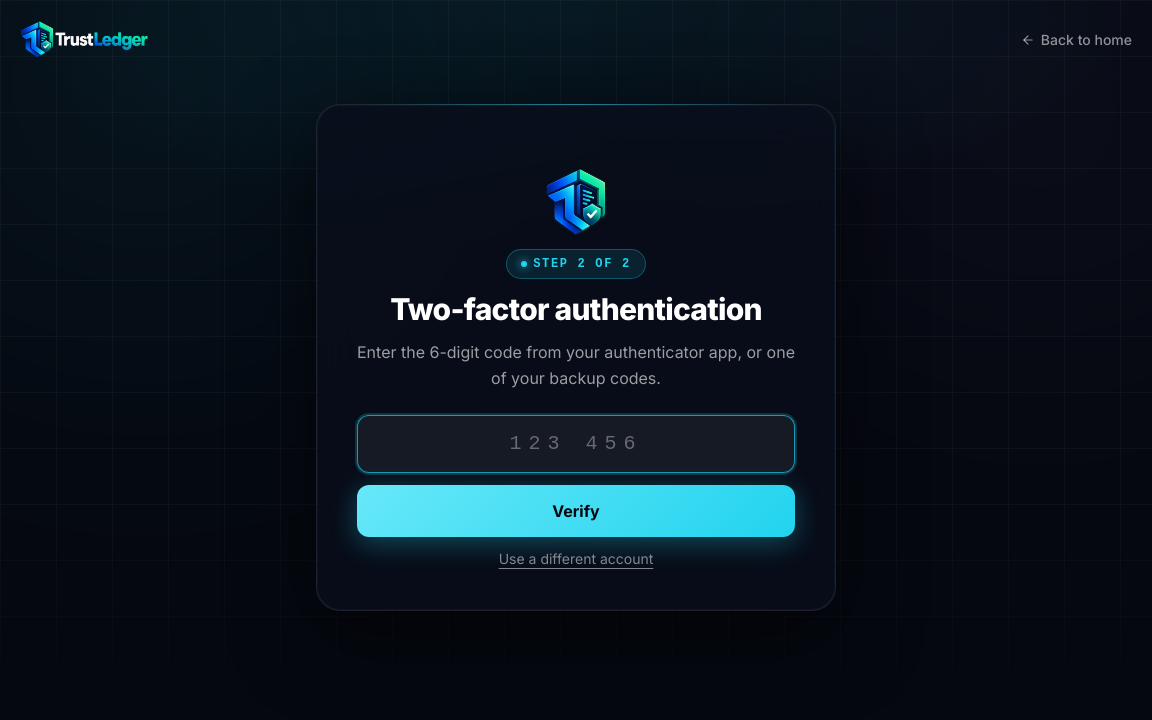
after signing in › shows the server's message for a wrong code
In the field named "Two-factor code": (576, 444) left=357, top=415, right=795, bottom=473, type "000000"
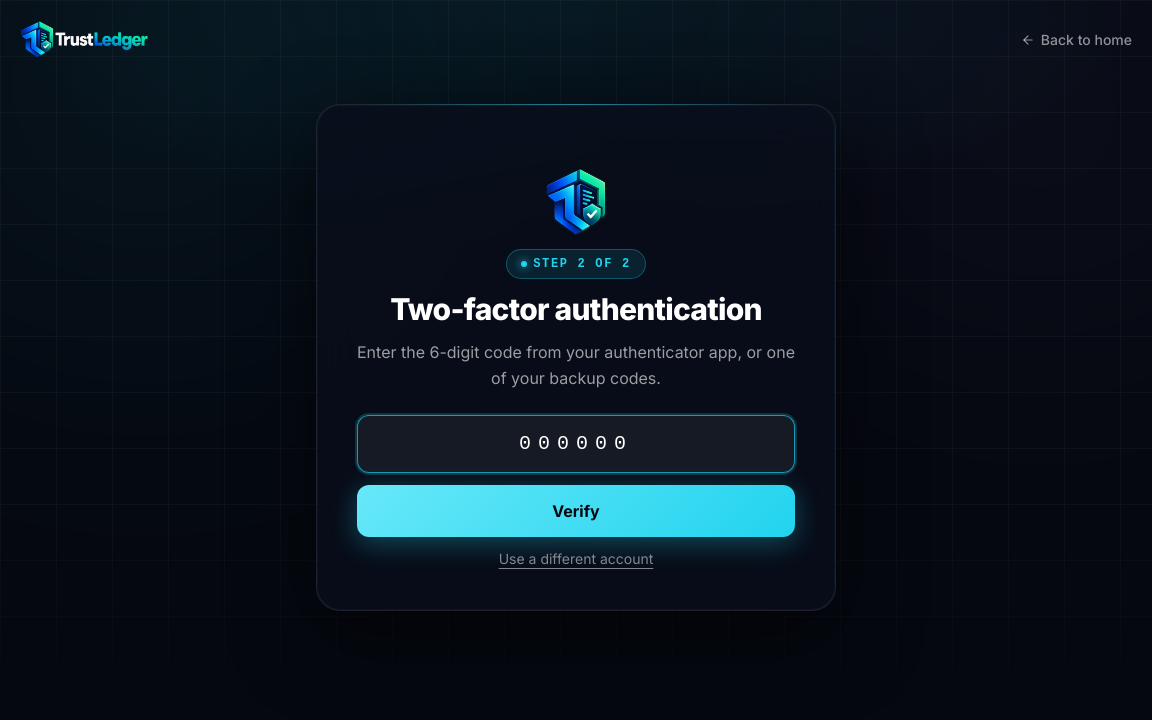
Click the button "Verify": (576, 511) left=357, top=485, right=795, bottom=537
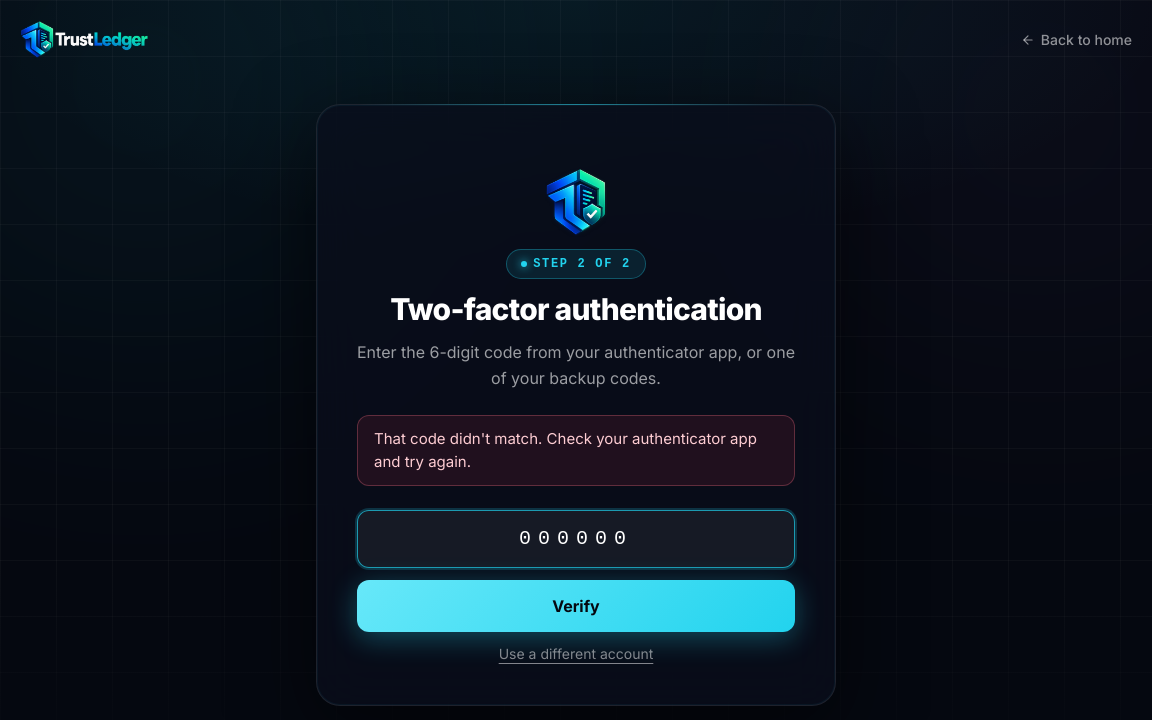
Check: the text "That code didn't match. Check your authenticator app and try again." is shown, box left=357, top=415, right=795, bottom=486
